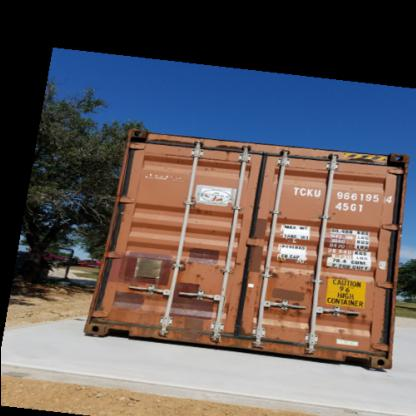Damage: (267, 300, 303, 328), (88, 295, 112, 335), (335, 308, 370, 334), (300, 262, 322, 296), (215, 142, 243, 156), (208, 258, 223, 271), (192, 269, 204, 285)
